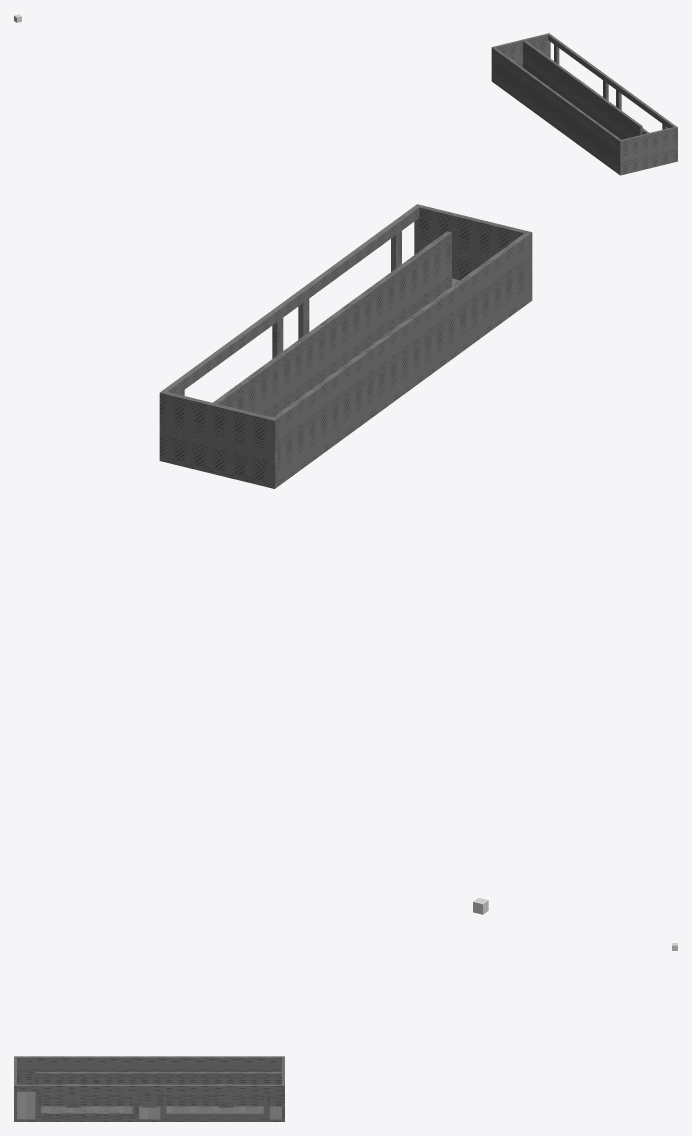
Rendered from BLDG_42_F1.glb.
3 renders of one model, top to bottom at view 1: azimuth 30°, elevation 25°; view 2: azimuth 150°, elevation 25°; view 3: azimuth 270°, elevation 25°, orthographic. The views are drawn at different scales.
Visible parts, largest first — view 1: BLDG_42_F1; view 2: BLDG_42_F1; view 3: BLDG_42_F1.
Boxes of the visible parts, x1,y1,x2,y2 form: BLDG_42_F1: (491,33,677,175); BLDG_42_F1: (159,204,532,488); BLDG_42_F1: (14,1056,284,1121).
Size of the model in its own units: 139 by 15 by 218.
Materials: 3 (2 with a texture image).
